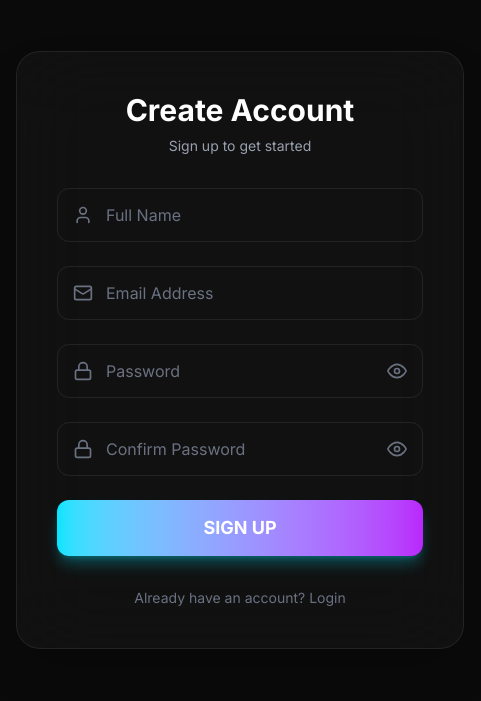
RegisterForm › shows error message when email already exists
Type "Jane Doe" into the field with placeholder "Full Name" at (240, 215), box [57, 188, 423, 242]
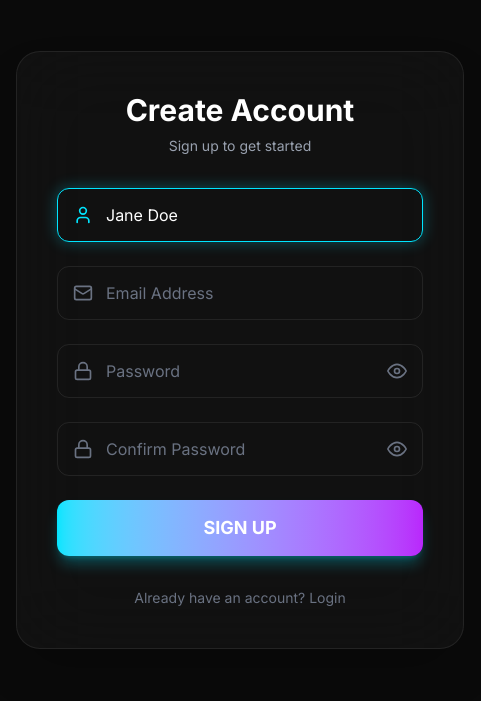
Type "existing@example.com" into the field with placeholder "Email Address" at (240, 293), box [57, 266, 423, 320]
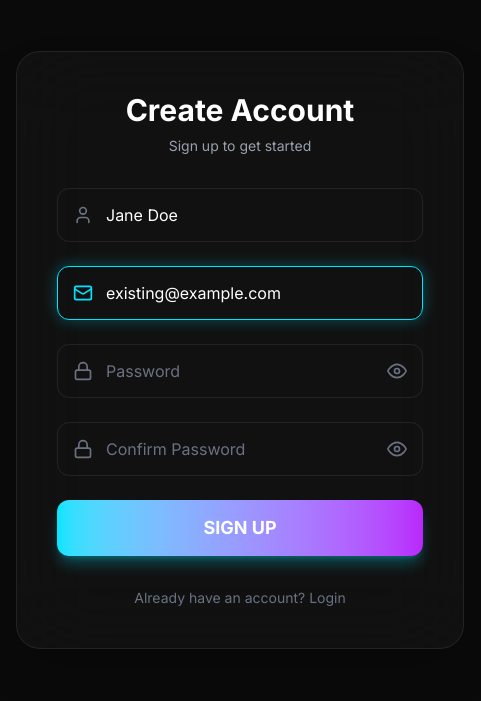
Type "password123" into the password field with placeholder "Password" at (240, 371), box [57, 344, 423, 398]
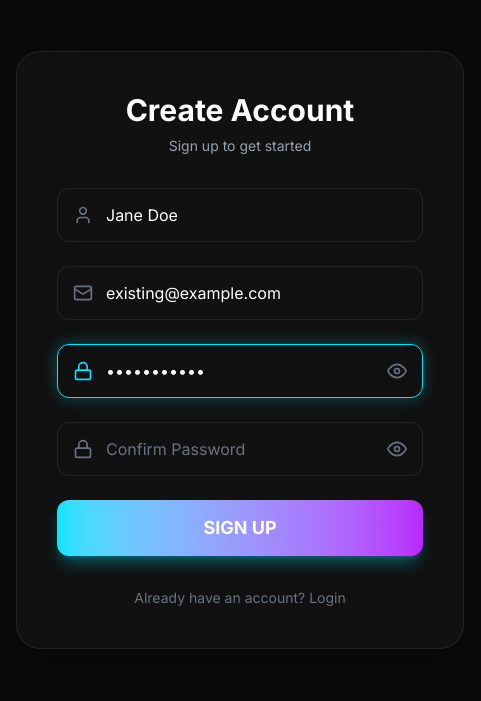
Type "password123" into the password field with placeholder "Confirm Password" at (240, 449), box [57, 422, 423, 476]
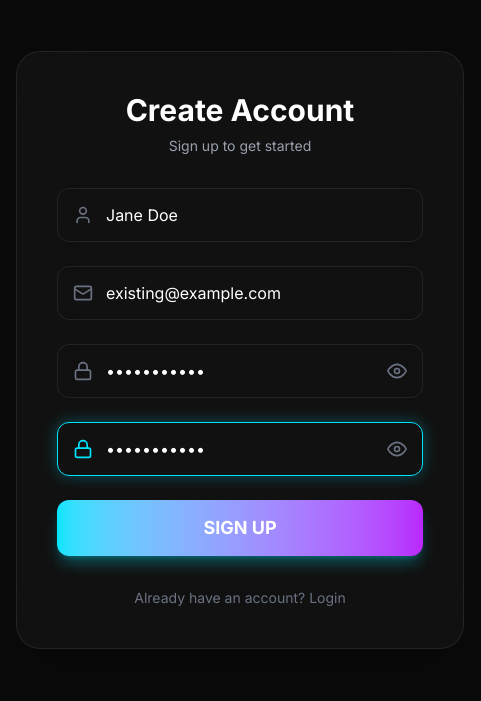
Click the button "SIGN UP" at (240, 528), box [57, 500, 423, 556]
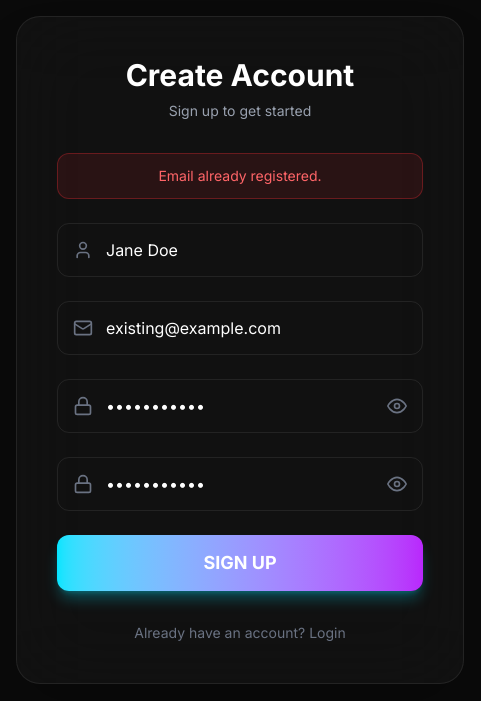
Expected: the text "Email already registered." is shown, [57, 153, 423, 199]
